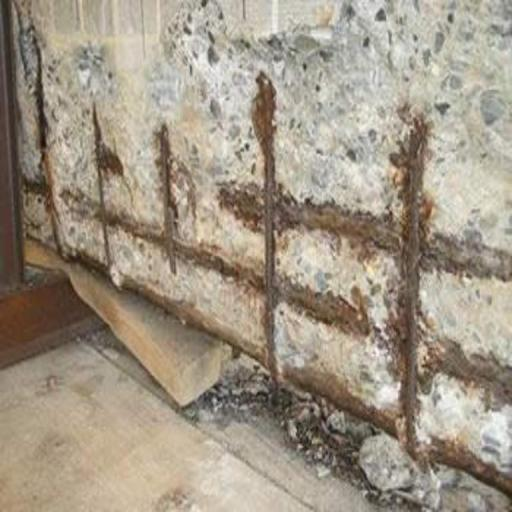spalling: (21, 3, 508, 499)
